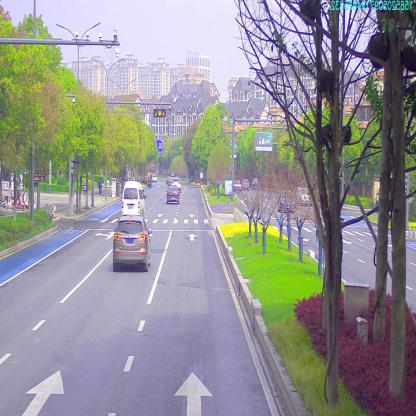traffic-light: (152, 108, 166, 117)
